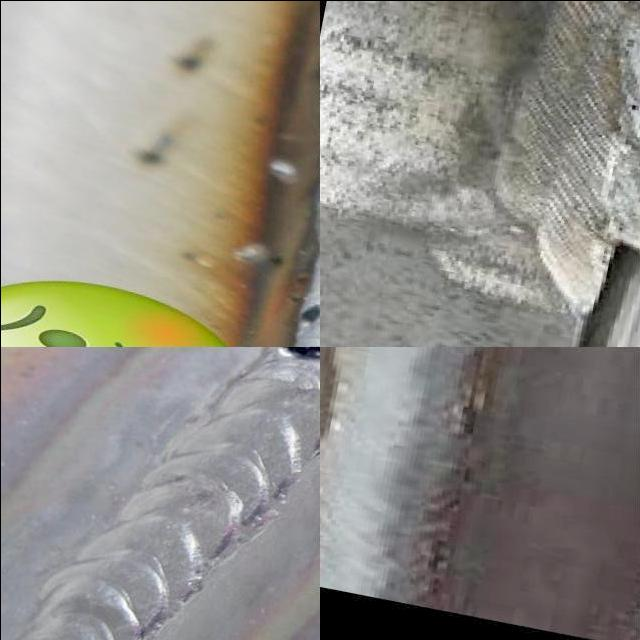defect: (294, 300, 320, 325)
